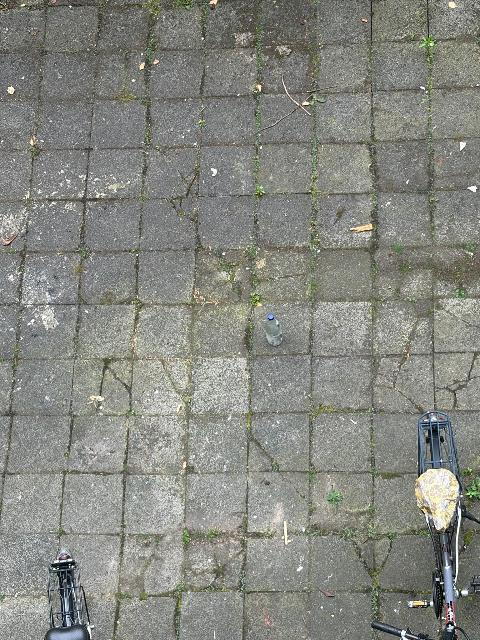glass_bottle: (265, 316, 283, 346)
